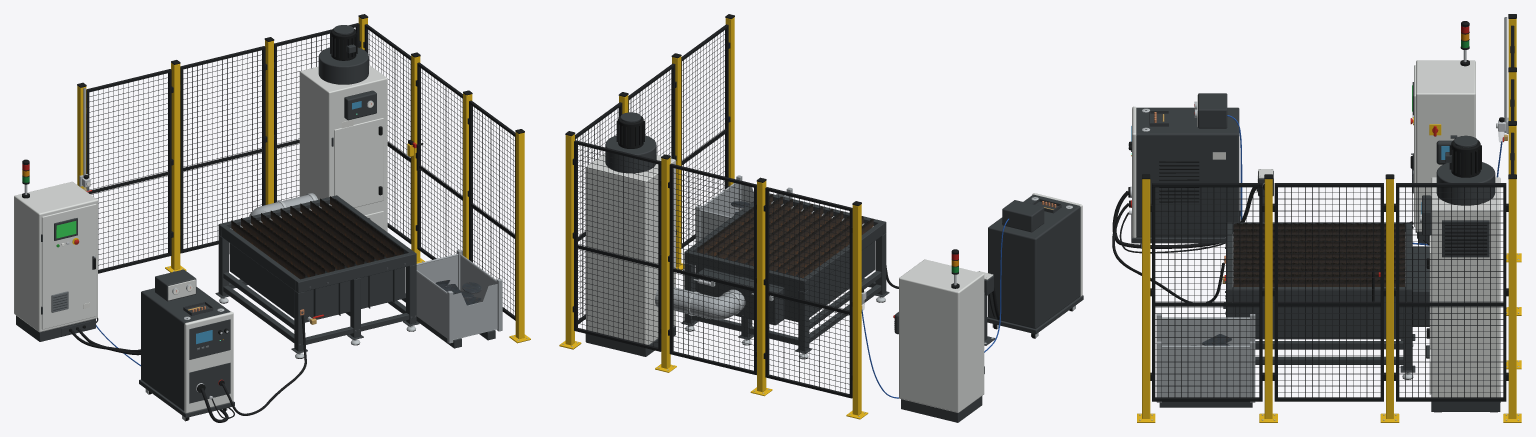
Rendered from cell_cut.glb.
The picture shows the model from 3 angles, left to right: view 1: azimuth 30°, elevation 25°; view 2: azimuth 150°, elevation 25°; view 3: azimuth 270°, elevation 25°; orthographic projection. The views are drawn at different scales.
Visible parts, largest first — view 1: cut_static, cut_static_tex; view 2: cut_static, cut_static_tex; view 3: cut_static, cut_static_tex.
Boxes of the visible parts, bbox=[...] form: cut_static: bbox=[14, 14, 530, 421]; cut_static_tex: bbox=[71, 195, 481, 422]; cut_static: bbox=[559, 14, 1083, 422]; cut_static_tex: bbox=[673, 194, 1009, 398]; cut_static: bbox=[1128, 14, 1521, 422]; cut_static_tex: bbox=[1112, 115, 1502, 345].
Size of the model in its own units: 3.77 by 2.12 by 3.07.
32 materials, 3 textured.
